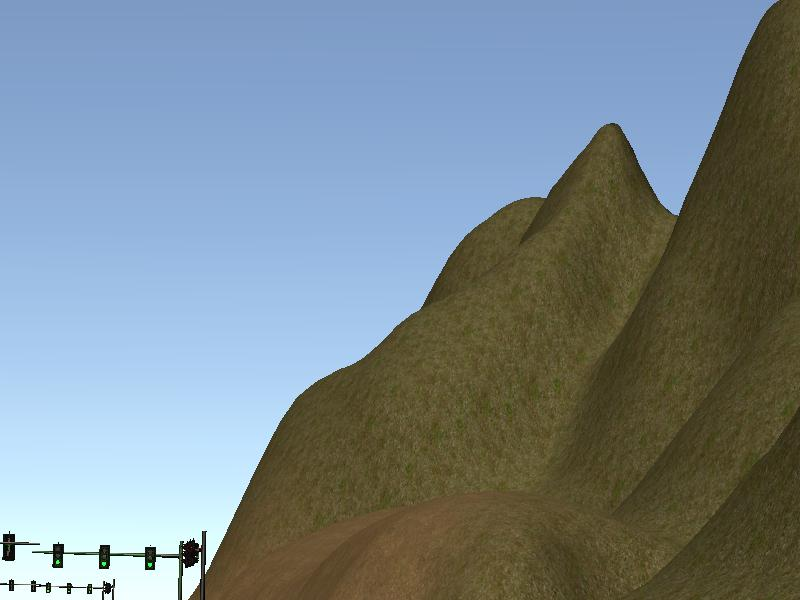Green: (51, 542, 65, 567), (145, 546, 156, 571), (100, 543, 110, 568)
